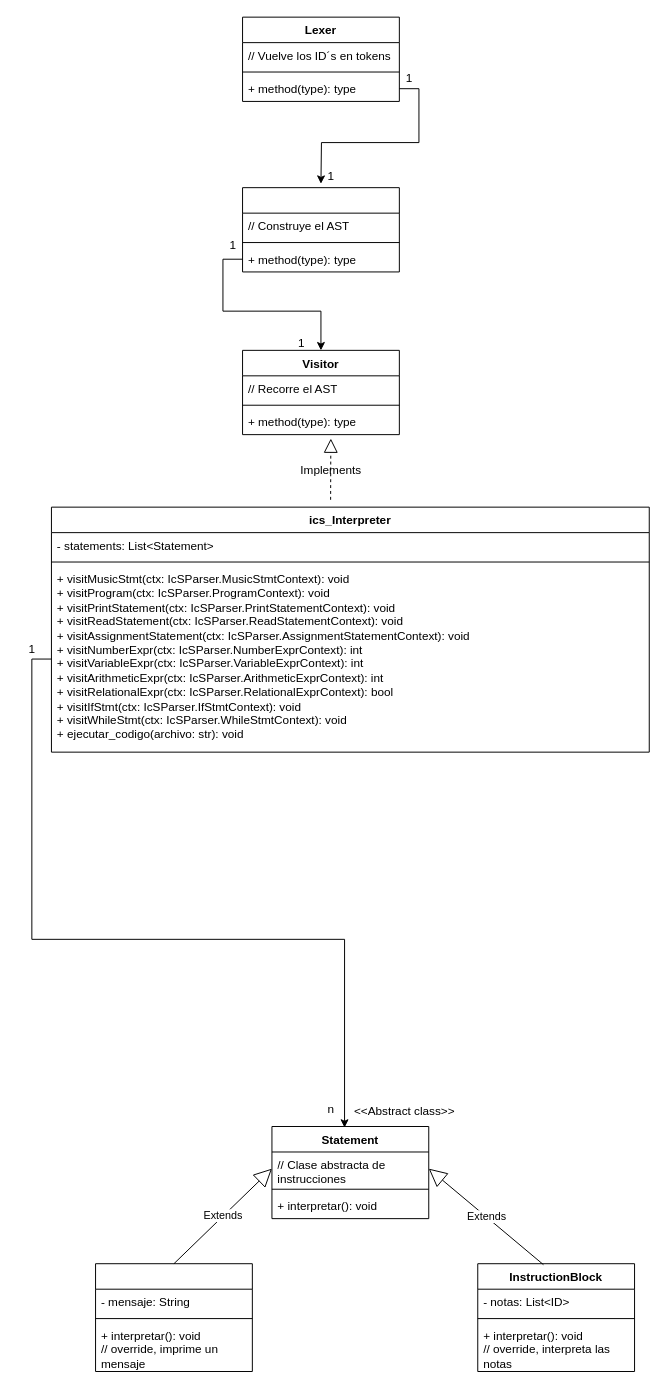
Some shapes in this 666 by 1392 pixel diagram are drawn without their labels. Each missing label, with the box of its shape:
Parser: (242, 187, 399, 272)
Write: (95, 1263, 252, 1372)
